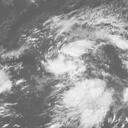cyclone: (42, 46, 111, 126)
